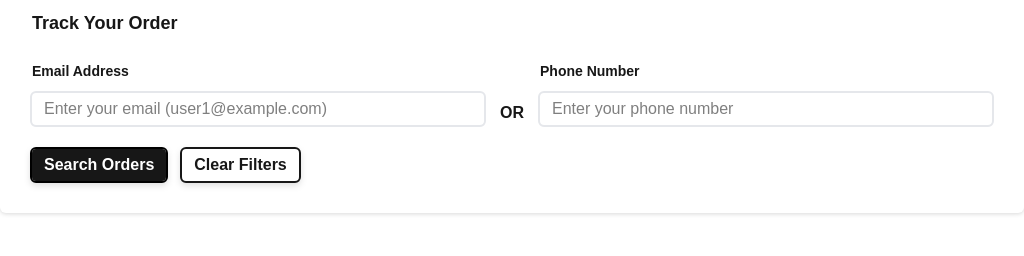
Scenario: Clicking "Search Orders" when both email and phone number are empty displays an error message
This screenshot has width=1024, height=256.
What coordinates should you click on to do the following:
click the button "Search Orders"
I would click on:
 (99, 165)
Its box is x1=32 y1=149 x2=166 y2=181.
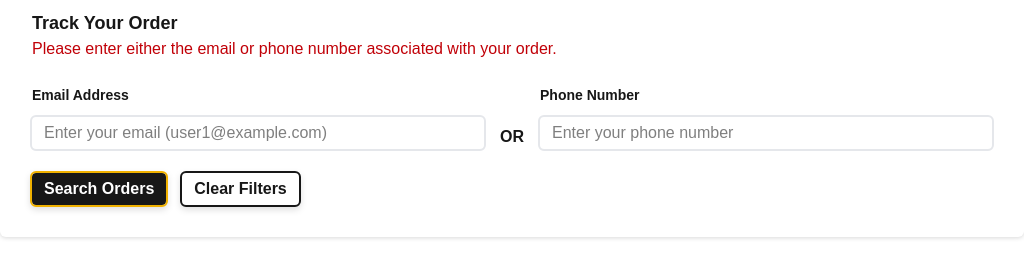
Expected: the text "Please enter either the email or phone number associated with your order." is shown, x1=32 y1=40 x2=557 y2=57
